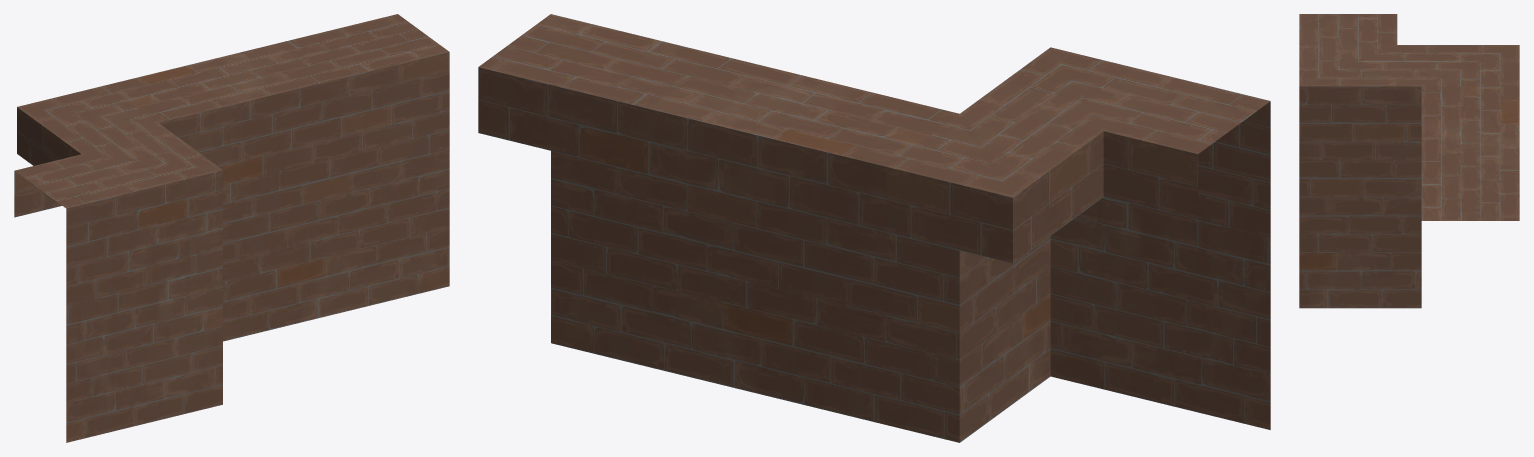
The model's file is Cornice_Brick_90Angle_L.gltf.
3 views of the same model, side by side, from view 1: azimuth 30°, elevation 25°; view 2: azimuth 150°, elevation 25°; view 3: azimuth 270°, elevation 25° (orthographic). The views are drawn at different scales.
Visible parts, largest first — view 1: Cornice_Brick_90Angle_L; view 2: Cornice_Brick_90Angle_L; view 3: Cornice_Brick_90Angle_L.
Boxes of the visible parts, left/top/right/bottom form: Cornice_Brick_90Angle_L: left=14, top=14, right=449, bottom=442; Cornice_Brick_90Angle_L: left=478, top=14, right=1270, bottom=442; Cornice_Brick_90Angle_L: left=1299, top=14, right=1519, bottom=308.
Bounding box in the file's own units: 2 × 1 × 0.9.
Materials: 1 (1 with a texture image).
